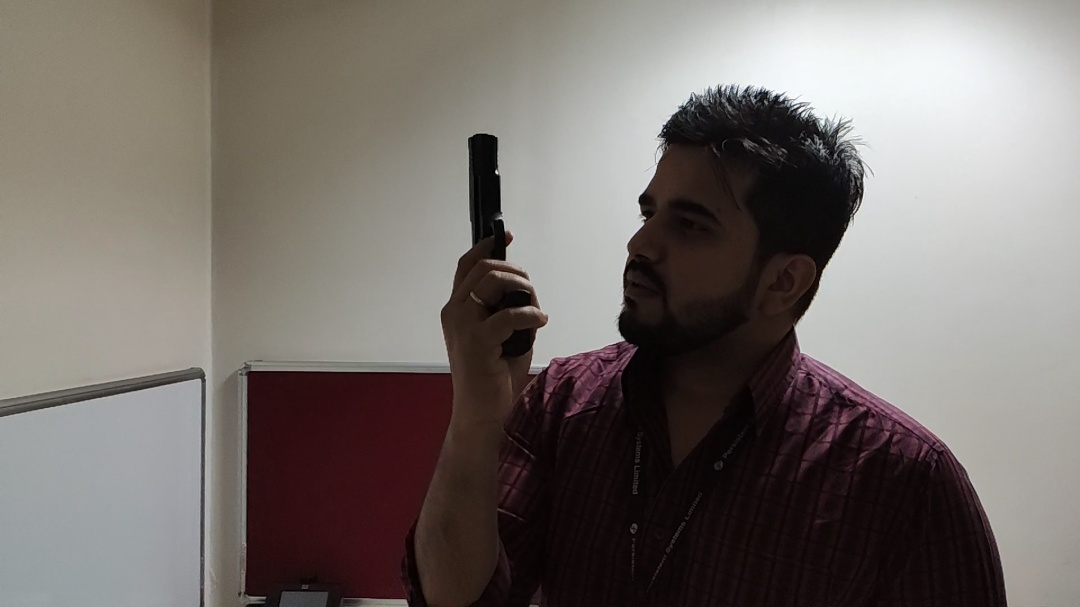gun: (443, 120, 535, 418)
